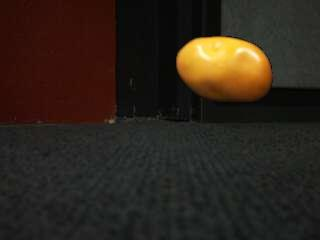Potato: (174, 33, 275, 105)
